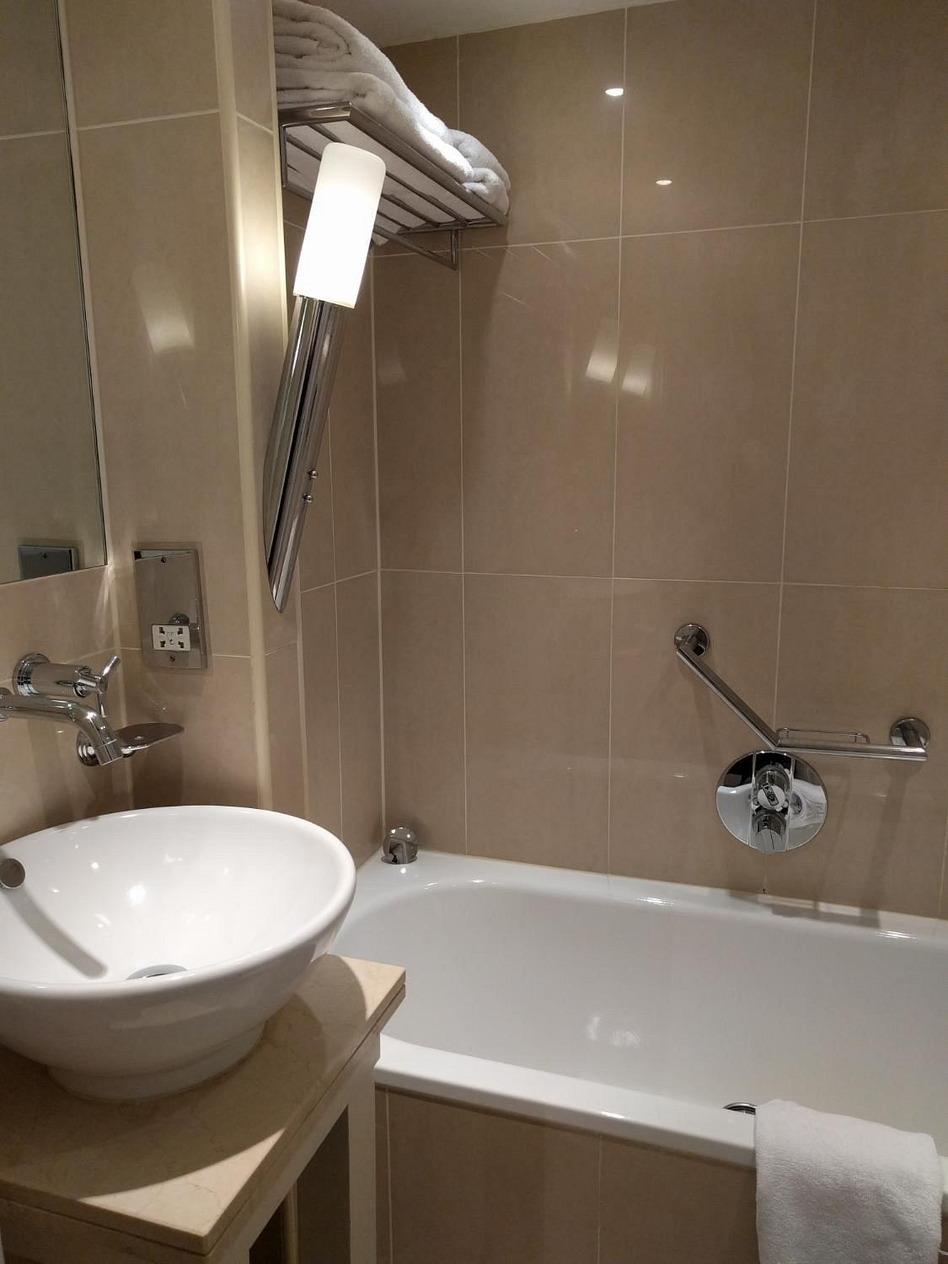clean_bathtub: (228, 828, 947, 1178)
clean_sink: (2, 666, 356, 1095)
folded_towel: (272, 0, 518, 246)
